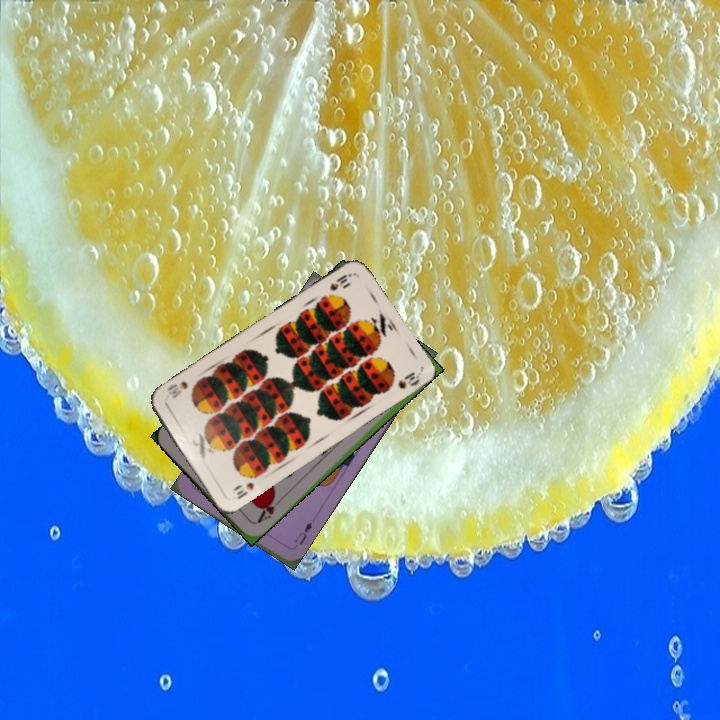EU: (290, 518, 315, 548)
HA: (251, 491, 279, 526)
S10: (228, 478, 257, 502), (325, 269, 354, 293)
